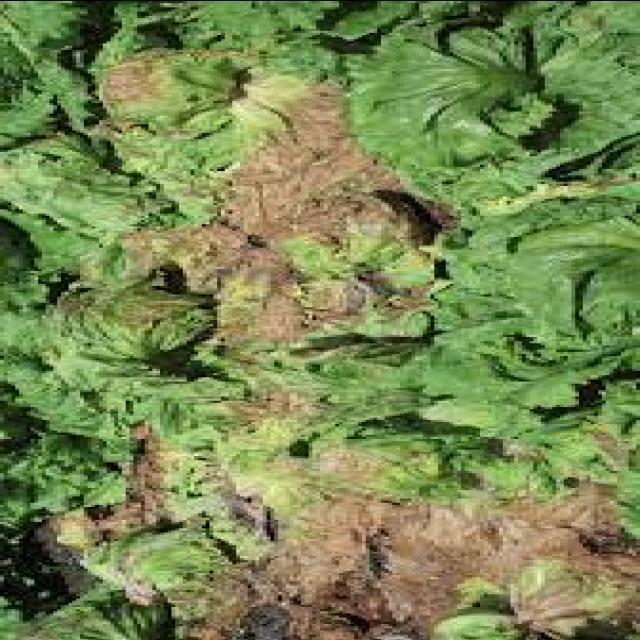Septoria_Blight: (346, 410, 632, 610), (143, 60, 363, 244)
